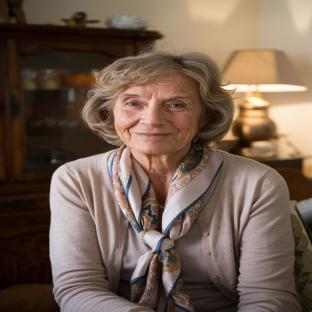Human: (50, 50, 301, 312)
